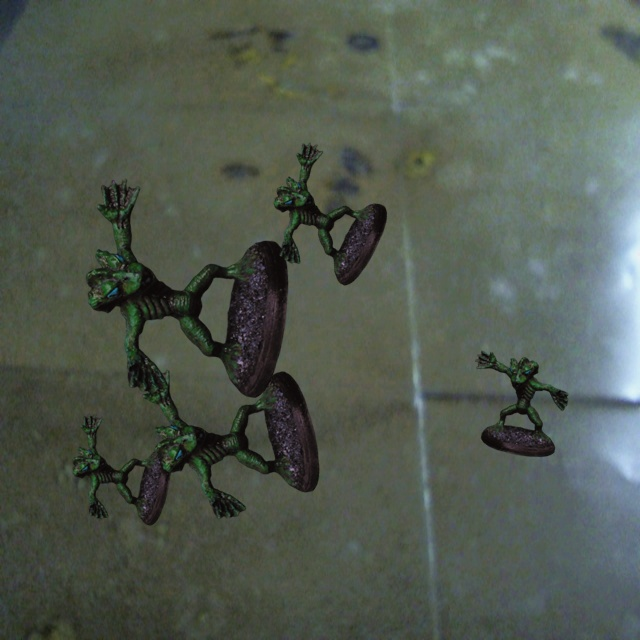pieza_juego: (86, 179, 287, 397), (140, 368, 319, 518), (273, 143, 386, 285), (72, 413, 171, 525), (475, 351, 568, 456)
